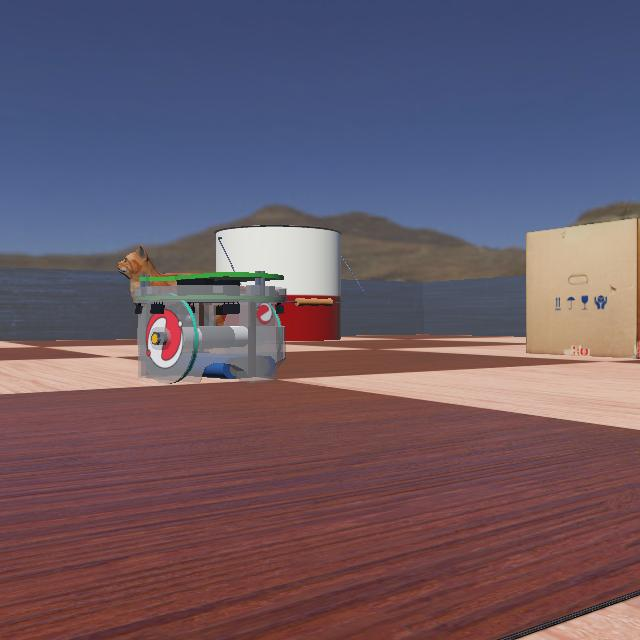cardboard-box: (508, 218, 640, 358)
